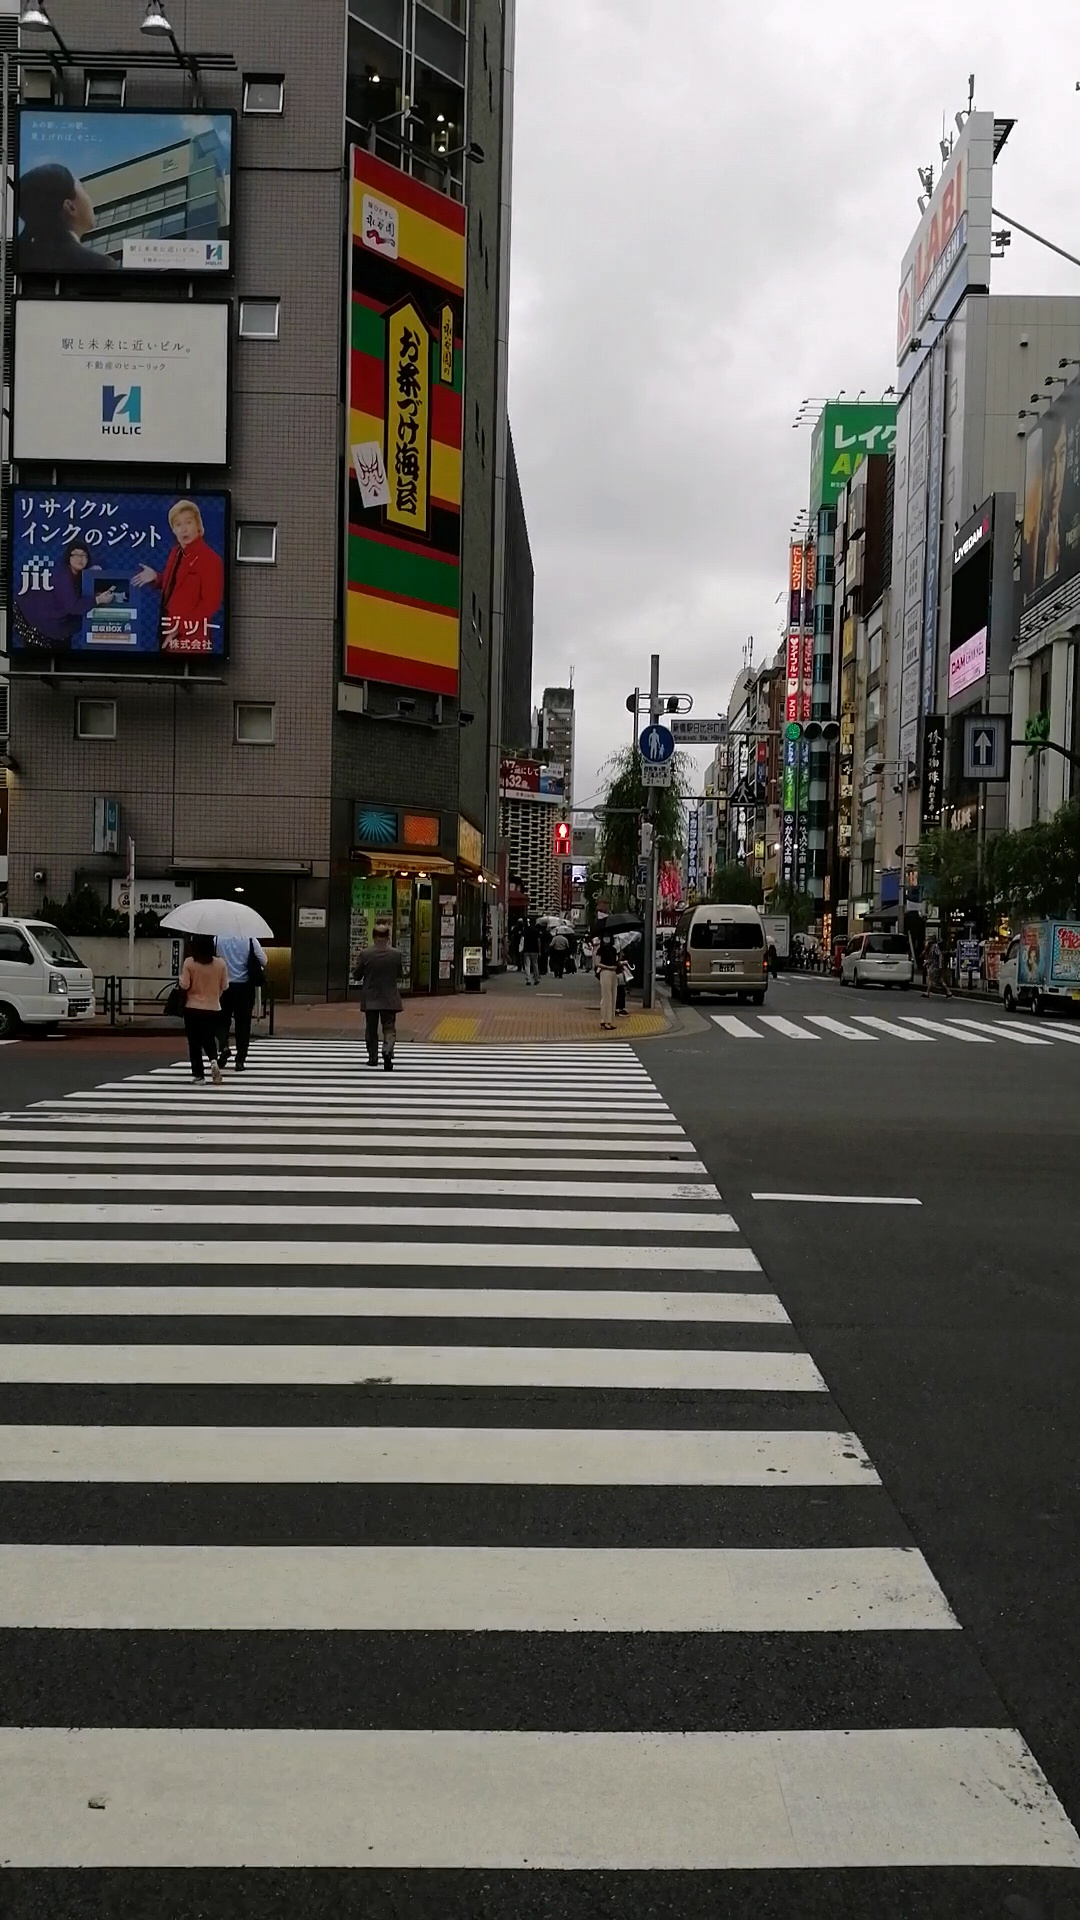red: (553, 820, 571, 858)
